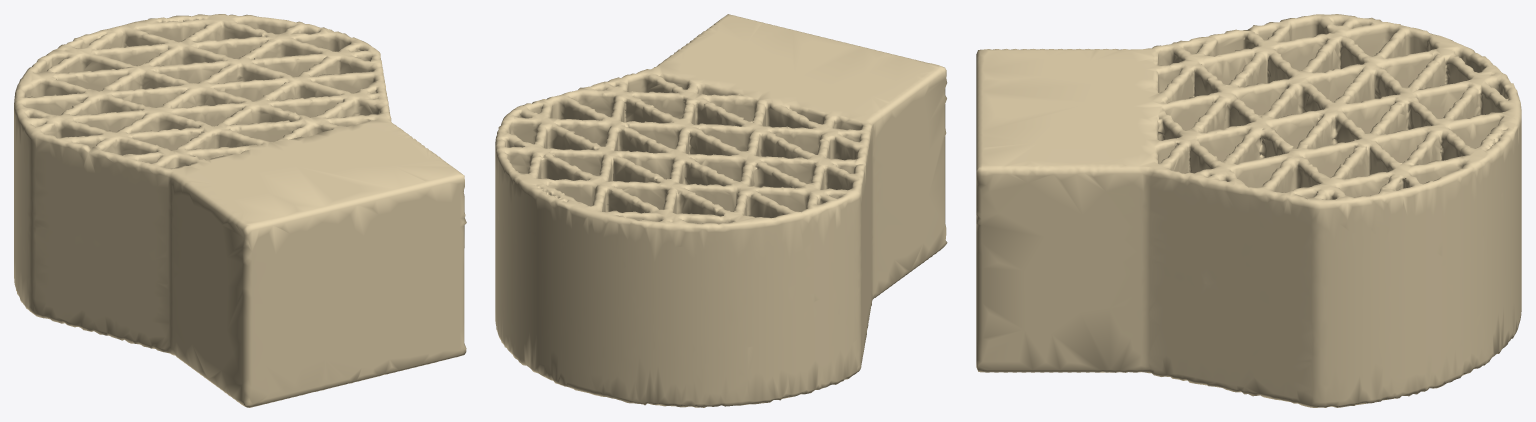
The model's file is ollie-paw-shape-090.glb.
3 views of the same model, side by side, from view 1: azimuth 30°, elevation 25°; view 2: azimuth 150°, elevation 25°; view 3: azimuth 270°, elevation 25° (orthographic). The views are drawn at different scales.
Visible parts, largest first — view 1: world; view 2: world; view 3: world.
Part boxes in pixels (x1,y1,x2,y2): world: (14,14,466,407); world: (495,14,947,407); world: (976,14,1521,407).
Bounding box in the file's own units: 39.93 × 20.01 × 48.
